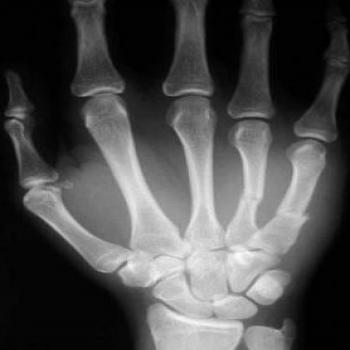Fracture: (277, 203, 323, 226), (230, 187, 269, 206)
